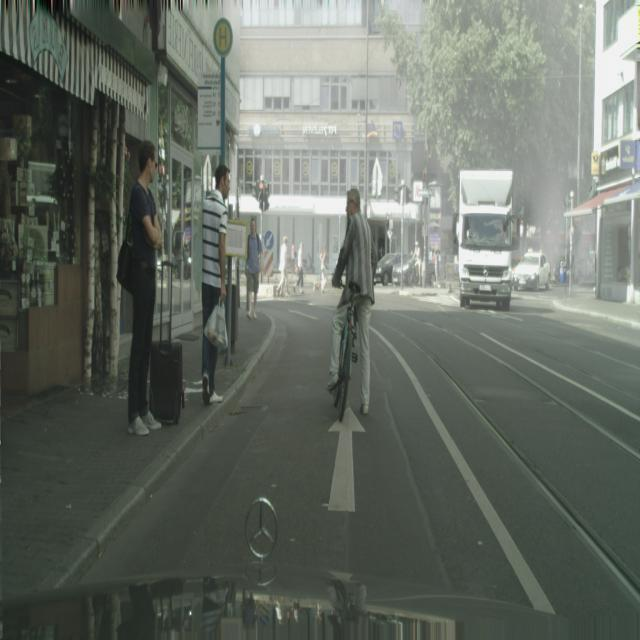bus: (124, 139, 163, 438), (200, 163, 230, 408), (245, 216, 262, 321), (277, 235, 289, 298), (318, 243, 328, 293), (296, 240, 305, 289)
car: (458, 169, 514, 311)
person: (513, 250, 550, 292), (376, 252, 414, 286), (375, 252, 402, 285)
truck: (334, 189, 381, 422)
